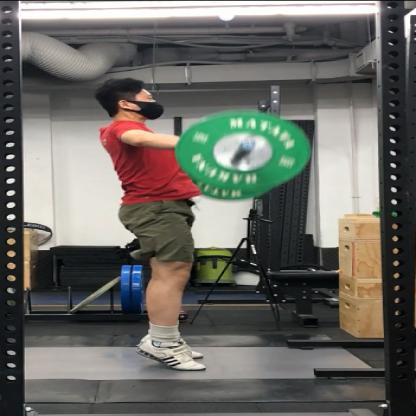Barbell: (167, 103, 325, 194)
